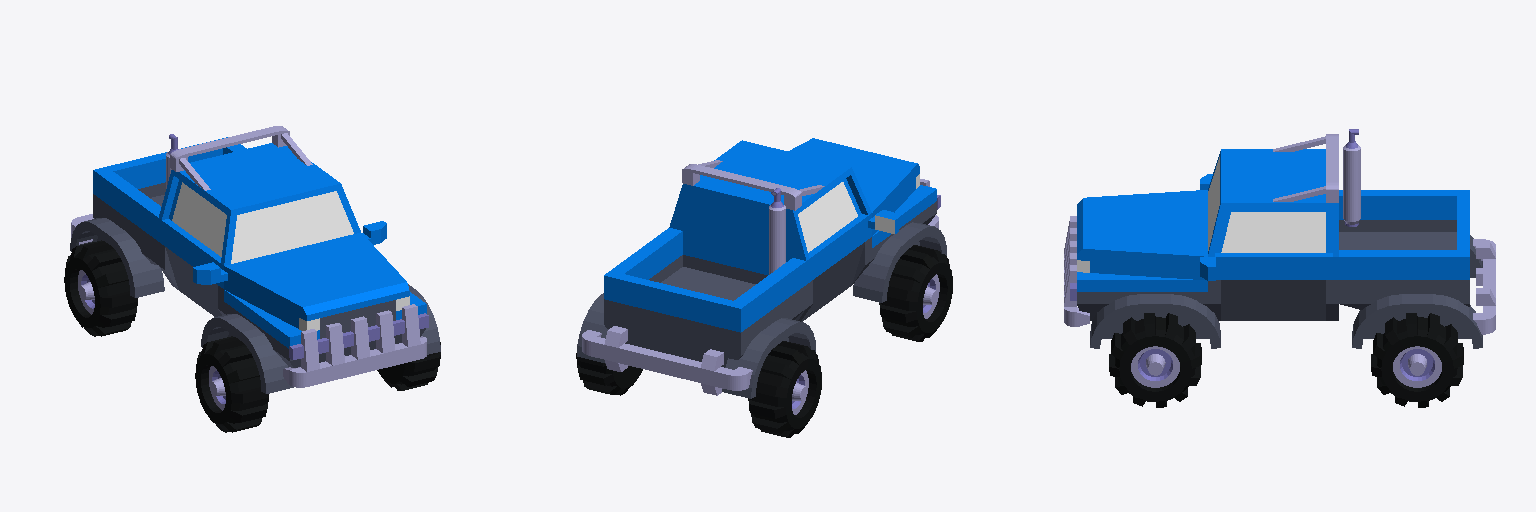
Rendered from truck1.obj.
3 renders of one model, left to right at view 1: azimuth 30°, elevation 25°; view 2: azimuth 150°, elevation 25°; view 3: azimuth 270°, elevation 25°, orthographic.
Parts seen in each view (by area): view 1: mergedBlocks; view 2: mergedBlocks; view 3: mergedBlocks.
Boxes of the visible parts, <box> form: mergedBlocks: <box>64,126,440,432</box>; mergedBlocks: <box>576,138,952,437</box>; mergedBlocks: <box>1064,129,1495,407</box>.
Size of the model in its own units: 0.6471 by 0.6152 by 1.16.